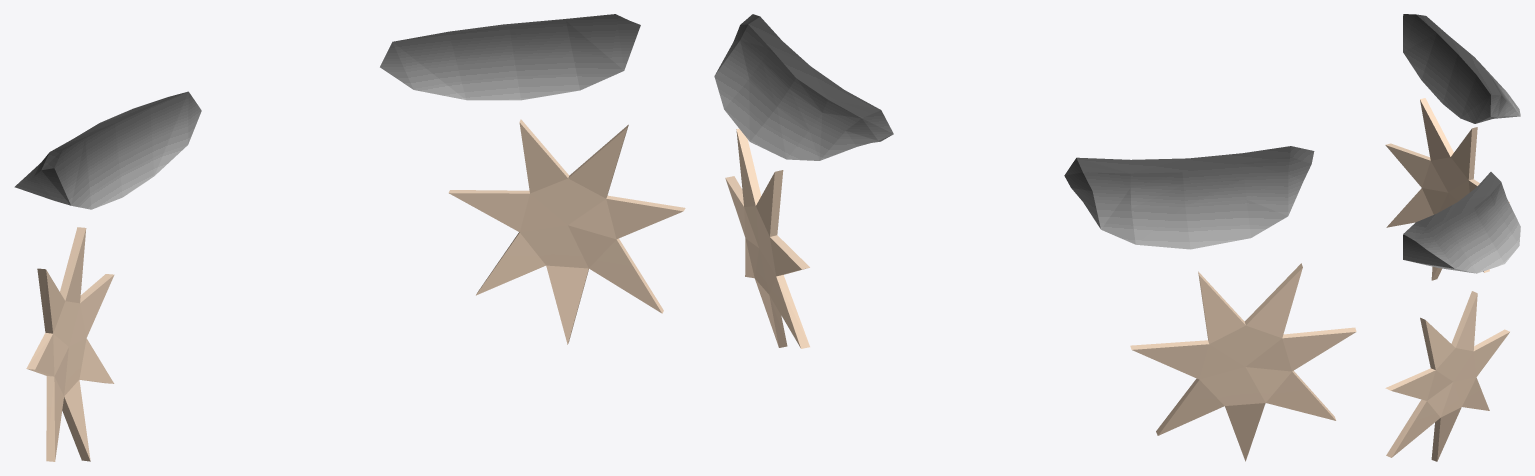
Rendered from CharSkyKid_Mask_AP16CureForMe.glb.
3 renders of one model, left to right at view 1: azimuth 30°, elevation 25°; view 2: azimuth 150°, elevation 25°; view 3: azimuth 270°, elevation 25°, orthographic. The views are drawn at different scales.
Parts seen in each view (by area): view 1: CharSkyKid_Mask_AP16CureForMe; view 2: CharSkyKid_Mask_AP16CureForMe; view 3: CharSkyKid_Mask_AP16CureForMe.
Part boxes in pixels (x1,y1,x2,y2): CharSkyKid_Mask_AP16CureForMe: (14, 14, 685, 461); CharSkyKid_Mask_AP16CureForMe: (714, 14, 1356, 461); CharSkyKid_Mask_AP16CureForMe: (1385, 14, 1520, 461).
Size of the model in its own units: 1.53 by 0.7271 by 0.3547.
1 material, 1 textured.
